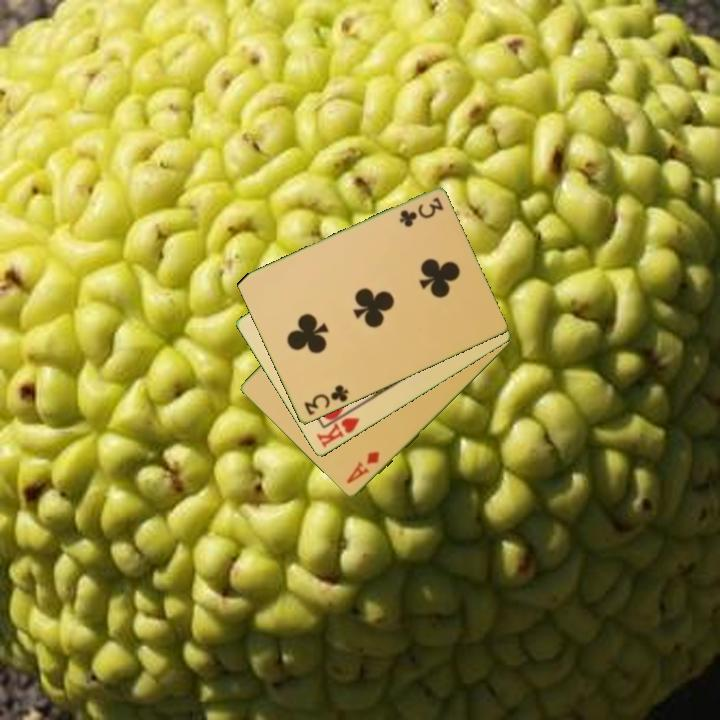3c: (300, 381, 351, 418), (395, 194, 446, 229)
Ad: (342, 448, 382, 487)
Kh: (312, 405, 363, 451)
